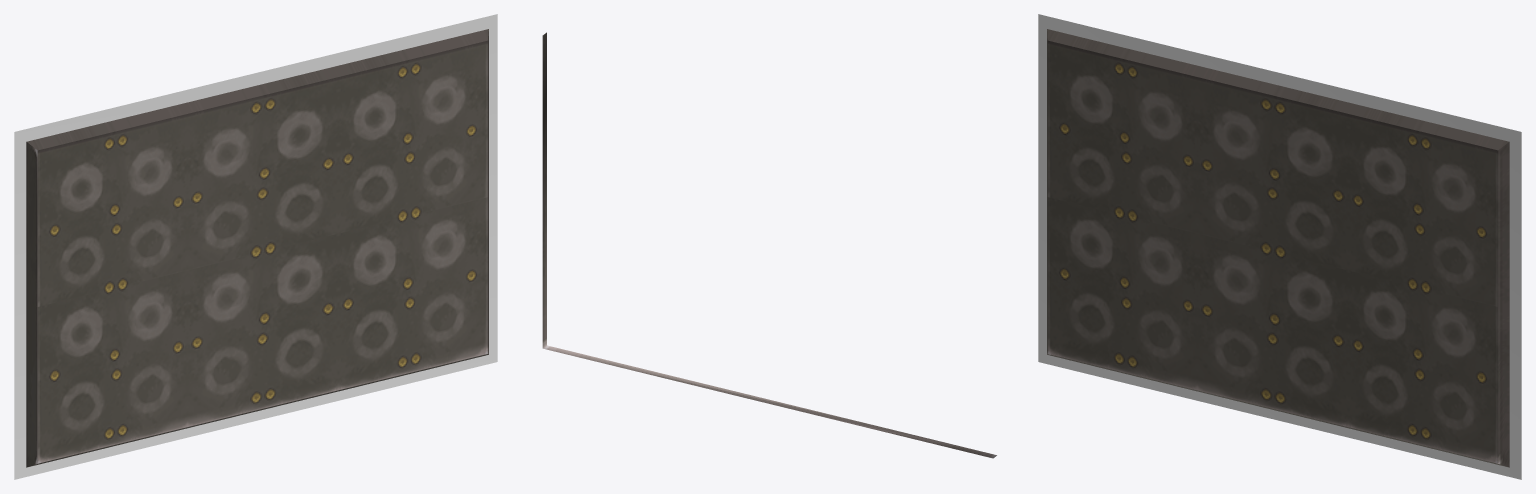
Rendered from tile_3x2.glb.
The picture shows the model from 3 angles, left to right: view 1: azimuth 30°, elevation 25°; view 2: azimuth 150°, elevation 25°; view 3: azimuth 330°, elevation 25°; orthographic projection.
Parts seen in each view (by area): view 1: spikes.tile_3x2-Mesh[0], spikes.tile_3x2-Mesh[2]; view 2: spikes.tile_3x2-Mesh[1]; view 3: spikes.tile_3x2-Mesh[0], spikes.tile_3x2-Mesh[2].
Boxes of the visible parts, bbox=[...] form: spikes.tile_3x2-Mesh[0]: bbox=[26, 29, 488, 467]; spikes.tile_3x2-Mesh[2]: bbox=[14, 14, 497, 479]; spikes.tile_3x2-Mesh[1]: bbox=[542, 32, 996, 458]; spikes.tile_3x2-Mesh[0]: bbox=[1047, 29, 1509, 467]; spikes.tile_3x2-Mesh[2]: bbox=[1038, 14, 1521, 479].
Size of the model in its own units: 3.2 by 2.2 by 0.14.
2 materials, 1 textured.
